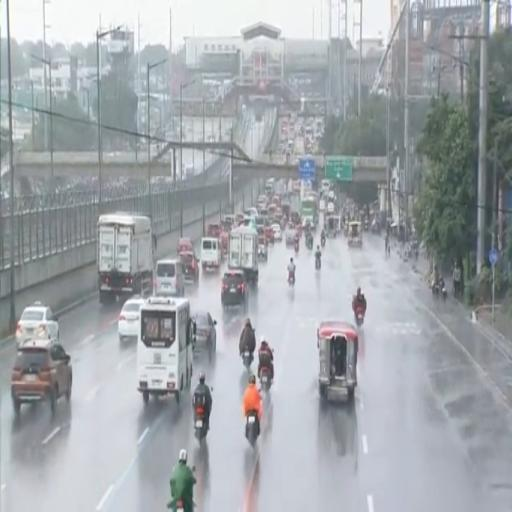bus: (137, 297, 194, 404), (265, 179, 275, 197)
car: (11, 339, 72, 413), (16, 302, 58, 346), (118, 296, 144, 342), (221, 270, 248, 311), (194, 311, 216, 360), (180, 251, 199, 283), (177, 237, 193, 253), (258, 237, 267, 261), (271, 224, 282, 241), (286, 229, 297, 246), (264, 227, 274, 244)
motorcycle: (195, 406, 207, 442), (246, 411, 258, 446), (260, 366, 271, 391), (242, 350, 253, 370), (355, 307, 364, 326), (431, 282, 440, 299), (258, 246, 267, 261), (306, 235, 313, 249), (441, 285, 447, 300), (315, 256, 321, 269), (288, 272, 294, 285), (295, 242, 299, 253), (321, 237, 325, 248)
truck: (98, 213, 155, 303), (228, 227, 258, 286), (300, 197, 317, 227)
